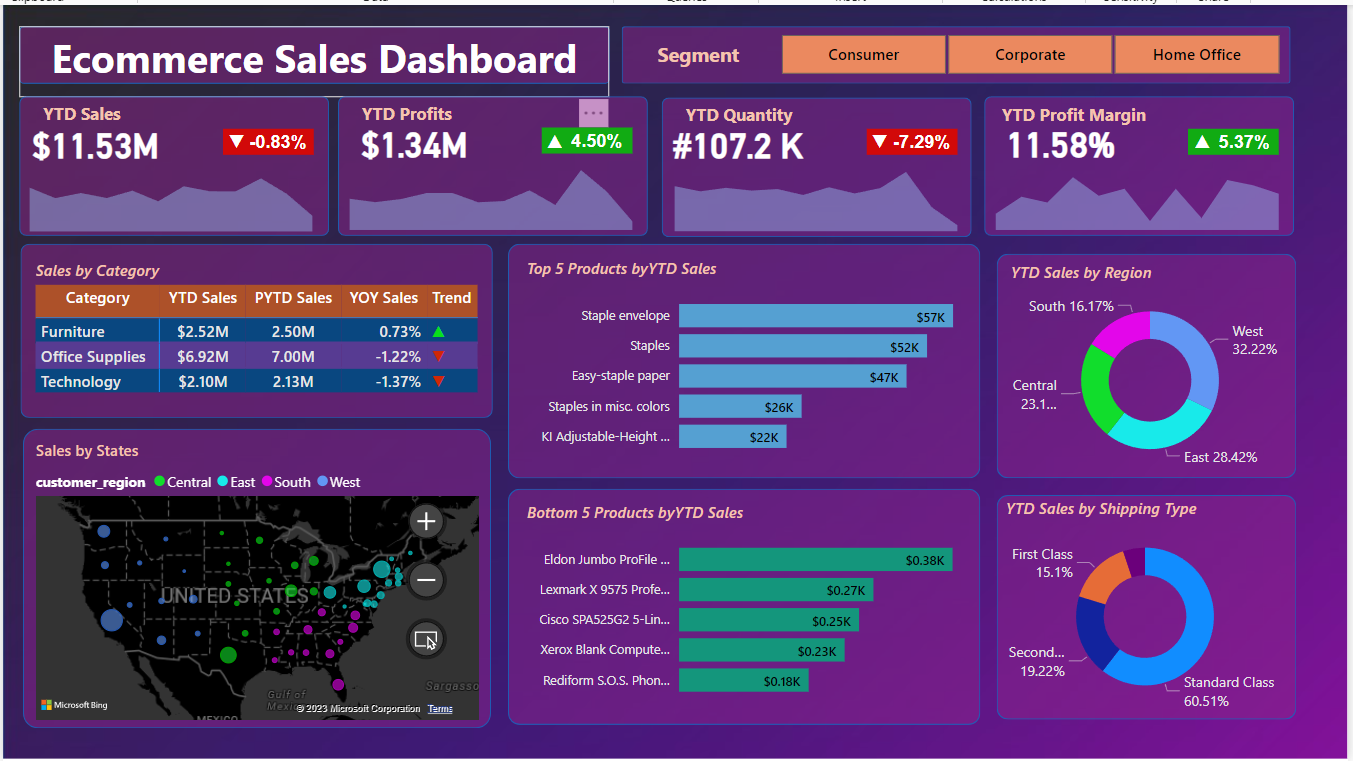

The dashboard page shown, as its layout file describes it:
{"tool":"powerbi","page":{"name":"Page 1","canvas":[1280,720],"ordinal":0},"visuals":[{"type":"shape","box":[15.1,20.6,562.1,54.8],"z":0},{"type":"textbox","box":[15.1,20.6,562.1,67.2],"z":1000},{"type":"shape","box":[15.1,87.4,295,133],"z":2000},{"type":"card","fields":{"Values":["ecommerce_data.YTD Sales"]},"box":[15.1,106.6,145.3,49.4],"z":3000},{"type":"areaChart","fields":{"Category":["Calendar.Month"],"Y":["Sum(ecommerce_data.sales_per_order)"]},"box":[11,142.2,298.9,78.1],"z":4000},{"type":"shape","box":[209.8,117.5,86.4,24.7],"z":5000},{"type":"card","fields":{"Values":["ecommerce_data.YOY Sales"]},"box":[229,117.5,67.2,27.4],"z":6000},{"type":"card","fields":{"Values":["ecommerce_data.Sales Icon"]},"box":[209.8,117.5,26,27.4],"z":7000},{"type":"textbox","box":[32.9,87.4,91.9,32.9],"z":8000},{"type":"shape","box":[318.4,86.7,295,133],"z":9000},{"type":"card","fields":{"Values":["ecommerce_data.YTD Profits"]},"box":[318.4,105.9,145.3,49.4],"z":10000},{"type":"shape","box":[513.1,116.9,86.4,24.7],"z":11000},{"type":"card","fields":{"Values":["ecommerce_data.YOY Profit"]},"box":[532.3,116.9,67.2,27.4],"z":12000},{"type":"card","fields":{"Values":["ecommerce_data.Profit Icon"]},"box":[513.3,117.8,25.6,27.8],"z":13000},{"type":"textbox","box":[336.7,86.7,106.7,33.3],"z":14000},{"type":"areaChart","fields":{"Category":["Calendar.Month"],"Y":["Sum(ecommerce_data.profit_per_order)"]},"box":[315.6,141.1,298.9,77.8],"z":15000},{"type":"shape","box":[627.1,87.8,295,133],"z":16000},{"type":"card","fields":{"Values":["ecommerce_data.YTD Concatenated qty"]},"box":[627.1,107,145.3,49.4],"z":17000},{"type":"shape","box":[821.8,118,86.4,24.7],"z":18000},{"type":"card","fields":{"Values":["ecommerce_data.YOY Quantity"]},"box":[841,118,67.2,27.4],"z":19000},{"type":"card","fields":{"Values":["ecommerce_data.Quantity Icon"]},"box":[822.2,117.8,25.6,27.8],"z":20000},{"type":"textbox","box":[645.6,87.8,126.7,33.3],"z":21000},{"type":"areaChart","fields":{"Category":["Calendar.Month"],"Y":["Sum(ecommerce_data.order_quantity)"]},"box":[624.2,142.2,298.9,77.8],"z":22000},{"type":"shape","box":[934,87.2,295,133],"z":23000},{"type":"card","fields":{"Values":["ecommerce_data.YTD Profit Margin"]},"box":[934,106.3,145.3,49.4],"z":24000},{"type":"shape","box":[1128.7,117.3,86.4,24.7],"z":25000},{"type":"card","fields":{"Values":["ecommerce_data.YOY Profit Margin"]},"box":[1147.9,117.3,67.2,27.4],"z":26000},{"type":"card","fields":{"Values":["ecommerce_data.Profit Margin Icon"]},"box":[1128.9,117.8,25.6,27.8],"z":27000},{"type":"textbox","box":[945.6,87.8,167.8,33.3],"z":28000},{"type":"areaChart","fields":{"Category":["Calendar.Month"],"Y":["ecommerce_data.Profit Margin"]},"box":[931.1,141.6,298.9,77.8],"z":29000},{"type":"shape","box":[16.5,227.6,449.7,165.9],"z":30000},{"type":"pivotTable","title":"Sales by Category","fields":{"Rows":["ecommerce_data.category_name"],"Values":["ecommerce_data.YTD Sales","ecommerce_data.PYTD Sales","ecommerce_data.YOY Sales","ecommerce_data.Sales Icon"]},"box":[26,241.3,431.9,139.8],"z":31000},{"type":"shape","box":[19.2,403.1,445.6,285.2],"z":32000},{"type":"map","title":"Sales by States","fields":{"Y":["us_state_long_lat_codes.latitude"],"X":["us_state_long_lat_codes.longitude"],"Series":["ecommerce_data.customer_region"],"Size":["ecommerce_data.YTD Sales"]},"box":[26,412.7,431.9,272.8],"z":33000},{"type":"shape","box":[481.2,227.6,449.7,223.5],"z":33001},{"type":"shape","box":[481.2,460.7,449.7,224.9],"z":33002},{"type":"barChart","title":"Top 5 Products byYTD Sales ","fields":{"Category":["ecommerce_data.product_name"],"Y":["ecommerce_data.YTD Sales"]},"box":[493.6,239.9,429.1,198.8],"z":33003},{"type":"barChart","title":"Bottom 5 Products byYTD Sales ","fields":{"Category":["ecommerce_data.product_name"],"Y":["ecommerce_data.YTD Sales"]},"box":[493.6,473,429.1,198.8],"z":33004},{"type":"shape","box":[946,237.2,285.2,213.9],"z":33005},{"type":"shape","box":[946,466.2,285.2,213.9],"z":33006},{"type":"donutChart","title":"YTD Sales by Region","fields":{"Y":["ecommerce_data.YTD Sales"],"Category":["ecommerce_data.customer_region"]},"box":[954.2,244,275.6,207],"z":33007},{"type":"donutChart","title":"YTD Sales by Shipping Type","fields":{"Y":["ecommerce_data.YTD Sales"],"Category":["ecommerce_data.shipping_type"]},"box":[950.1,468.9,275.6,207],"z":33008},{"type":"shape","box":[589.1,20.2,636.7,54.7],"z":33009},{"type":"slicer","fields":{"Values":["ecommerce_data.customer_segment"]},"box":[715.7,21.9,523.7,50.7],"z":33010},{"type":"textbox","box":[612.9,30.2,116.5,42.5],"z":33011}]}

Visuals, with their boxes on the page's 1280x720 design canvas (x1, y1, x2, y2). These are canvas units, not pixel positions in the 1353x761 screenshot, which may show the page scaled, cropped or inside an application window:
shape: {"left": 15, "top": 21, "right": 577, "bottom": 75}
textbox: {"left": 15, "top": 21, "right": 577, "bottom": 88}
shape: {"left": 15, "top": 87, "right": 310, "bottom": 220}
card - ecommerce_data.YTD Sales: {"left": 15, "top": 107, "right": 160, "bottom": 156}
areaChart - Calendar.Month x Sum(ecommerce_data.sales_per_order): {"left": 11, "top": 142, "right": 310, "bottom": 220}
shape: {"left": 210, "top": 118, "right": 296, "bottom": 142}
card - ecommerce_data.YOY Sales: {"left": 229, "top": 118, "right": 296, "bottom": 145}
card - ecommerce_data.Sales Icon: {"left": 210, "top": 118, "right": 236, "bottom": 145}
textbox: {"left": 33, "top": 87, "right": 125, "bottom": 120}
shape: {"left": 318, "top": 87, "right": 613, "bottom": 220}
card - ecommerce_data.YTD Profits: {"left": 318, "top": 106, "right": 464, "bottom": 155}
shape: {"left": 513, "top": 117, "right": 600, "bottom": 142}
card - ecommerce_data.YOY Profit: {"left": 532, "top": 117, "right": 600, "bottom": 144}
card - ecommerce_data.Profit Icon: {"left": 513, "top": 118, "right": 539, "bottom": 146}
textbox: {"left": 337, "top": 87, "right": 443, "bottom": 120}
areaChart - Calendar.Month x Sum(ecommerce_data.profit_per_order): {"left": 316, "top": 141, "right": 614, "bottom": 219}
shape: {"left": 627, "top": 88, "right": 922, "bottom": 221}
card - ecommerce_data.YTD Concatenated qty: {"left": 627, "top": 107, "right": 772, "bottom": 156}
shape: {"left": 822, "top": 118, "right": 908, "bottom": 143}
card - ecommerce_data.YOY Quantity: {"left": 841, "top": 118, "right": 908, "bottom": 145}
card - ecommerce_data.Quantity Icon: {"left": 822, "top": 118, "right": 848, "bottom": 146}
textbox: {"left": 646, "top": 88, "right": 772, "bottom": 121}
areaChart - Calendar.Month x Sum(ecommerce_data.order_quantity): {"left": 624, "top": 142, "right": 923, "bottom": 220}
shape: {"left": 934, "top": 87, "right": 1229, "bottom": 220}
card - ecommerce_data.YTD Profit Margin: {"left": 934, "top": 106, "right": 1079, "bottom": 156}
shape: {"left": 1129, "top": 117, "right": 1215, "bottom": 142}
card - ecommerce_data.YOY Profit Margin: {"left": 1148, "top": 117, "right": 1215, "bottom": 145}
card - ecommerce_data.Profit Margin Icon: {"left": 1129, "top": 118, "right": 1154, "bottom": 146}
textbox: {"left": 946, "top": 88, "right": 1113, "bottom": 121}
areaChart - Calendar.Month x ecommerce_data.Profit Margin: {"left": 931, "top": 142, "right": 1230, "bottom": 219}
shape: {"left": 16, "top": 228, "right": 466, "bottom": 394}
"Sales by Category" pivotTable: {"left": 26, "top": 241, "right": 458, "bottom": 381}
shape: {"left": 19, "top": 403, "right": 465, "bottom": 688}
"Sales by States" map: {"left": 26, "top": 413, "right": 458, "bottom": 686}
shape: {"left": 481, "top": 228, "right": 931, "bottom": 451}
shape: {"left": 481, "top": 461, "right": 931, "bottom": 686}
"Top 5 Products byYTD Sales " barChart: {"left": 494, "top": 240, "right": 923, "bottom": 439}
"Bottom 5 Products byYTD Sales " barChart: {"left": 494, "top": 473, "right": 923, "bottom": 672}
shape: {"left": 946, "top": 237, "right": 1231, "bottom": 451}
shape: {"left": 946, "top": 466, "right": 1231, "bottom": 680}
"YTD Sales by Region" donutChart: {"left": 954, "top": 244, "right": 1230, "bottom": 451}
"YTD Sales by Shipping Type" donutChart: {"left": 950, "top": 469, "right": 1226, "bottom": 676}
shape: {"left": 589, "top": 20, "right": 1226, "bottom": 75}
slicer - ecommerce_data.customer_segment: {"left": 716, "top": 22, "right": 1239, "bottom": 73}
textbox: {"left": 613, "top": 30, "right": 729, "bottom": 73}
